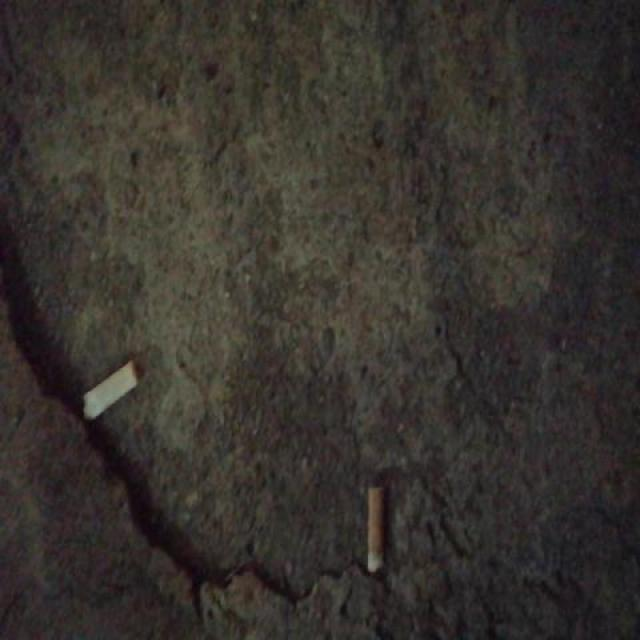non-organic waste: (80, 354, 144, 426), (364, 482, 388, 578)
